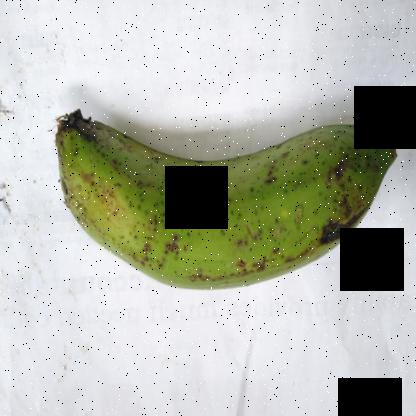unripe: (45, 92, 399, 312)
